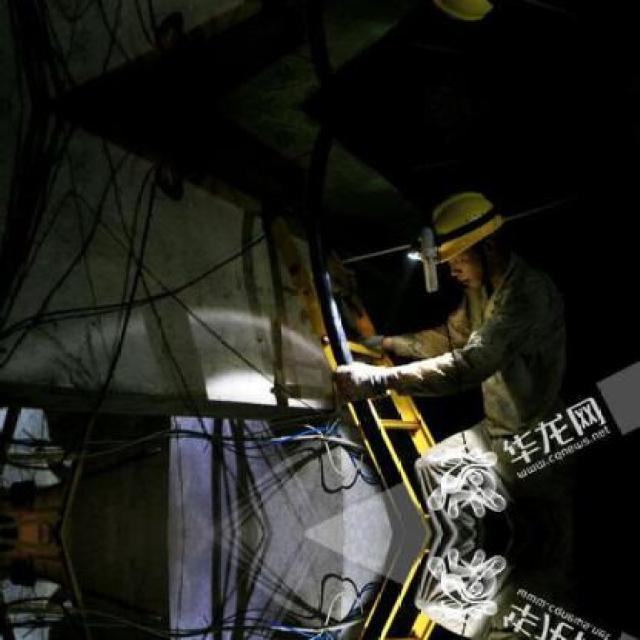helmet: (424, 178, 514, 300), (422, 0, 515, 35)
